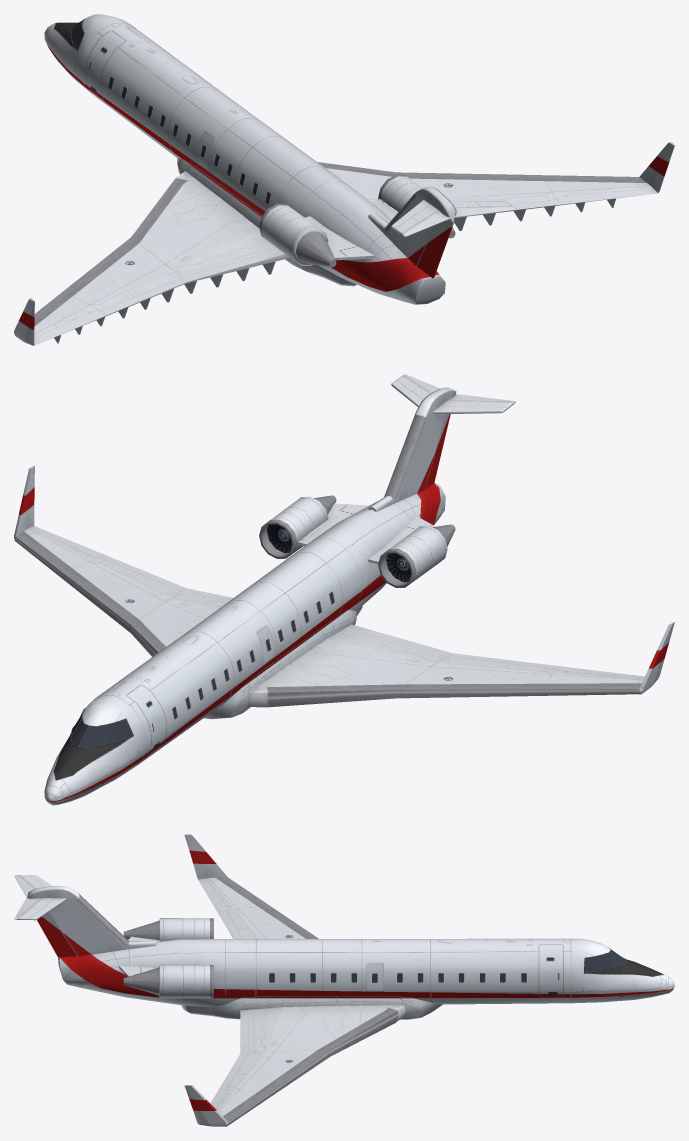
The model's file is Airplane_Small_Passenger.glb.
3 renders of one model, top to bottom at view 1: azimuth 30°, elevation 25°; view 2: azimuth 150°, elevation 25°; view 3: azimuth 270°, elevation 25°, orthographic. The views are drawn at different scales.
Visible parts, largest first — view 1: Airplane_Small_Passenger__LOD3; view 2: Airplane_Small_Passenger__LOD3; view 3: Airplane_Small_Passenger__LOD3.
Part boxes in pixels (x1=…): Airplane_Small_Passenger__LOD3: x1=14, y1=14, x2=674, y2=345; Airplane_Small_Passenger__LOD3: x1=14, y1=374, x2=674, y2=805; Airplane_Small_Passenger__LOD3: x1=14, y1=834, x2=674, y2=1126.
Size of the model in its own units: 20.16 by 4.9 by 22.37.
Materials: 1 (1 with a texture image).
